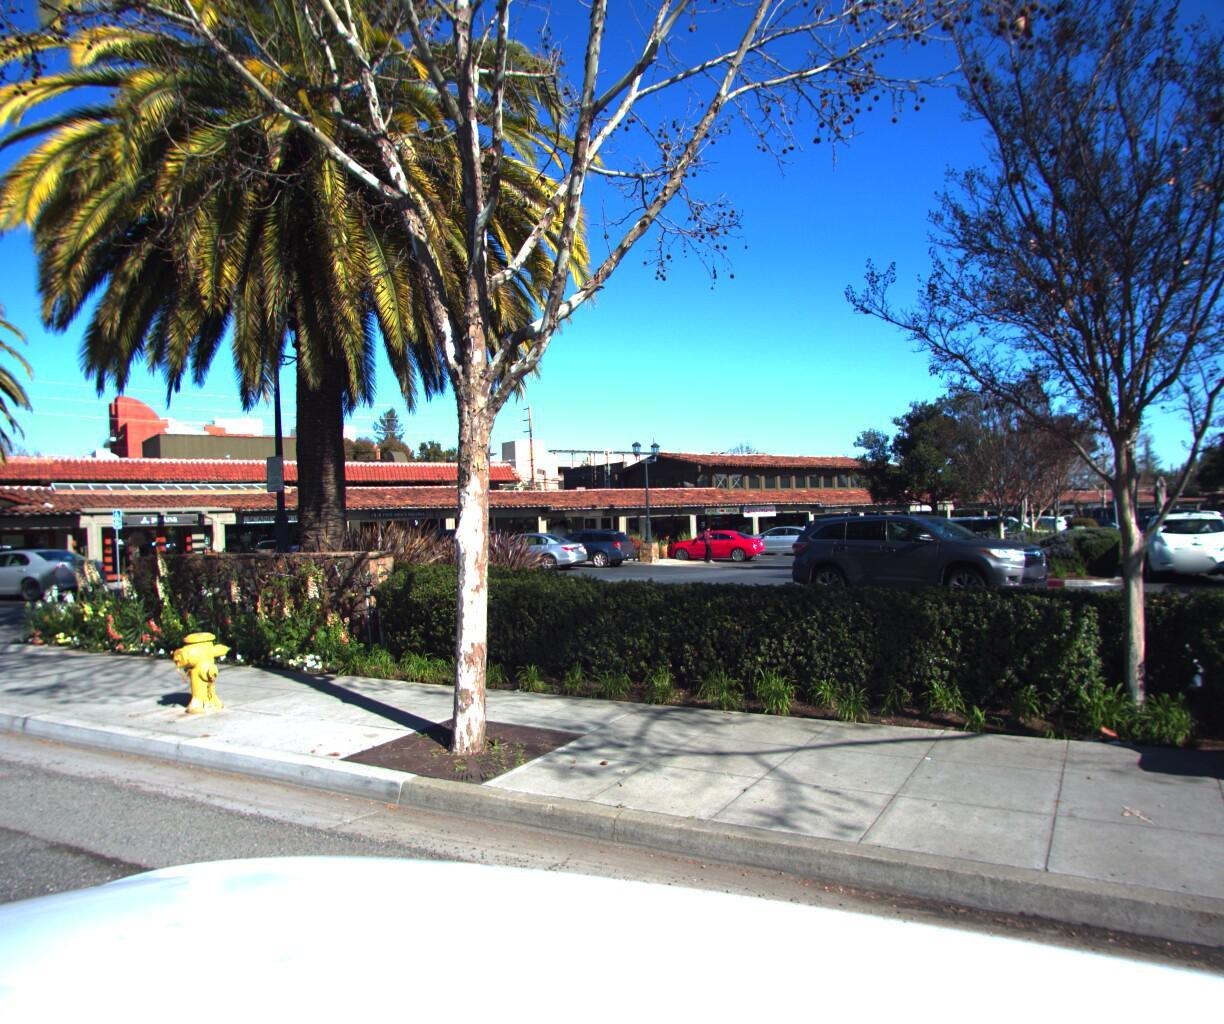car: (0, 538, 123, 596)
